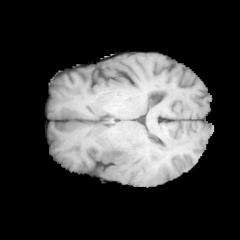glioma: (100, 138, 164, 183)
